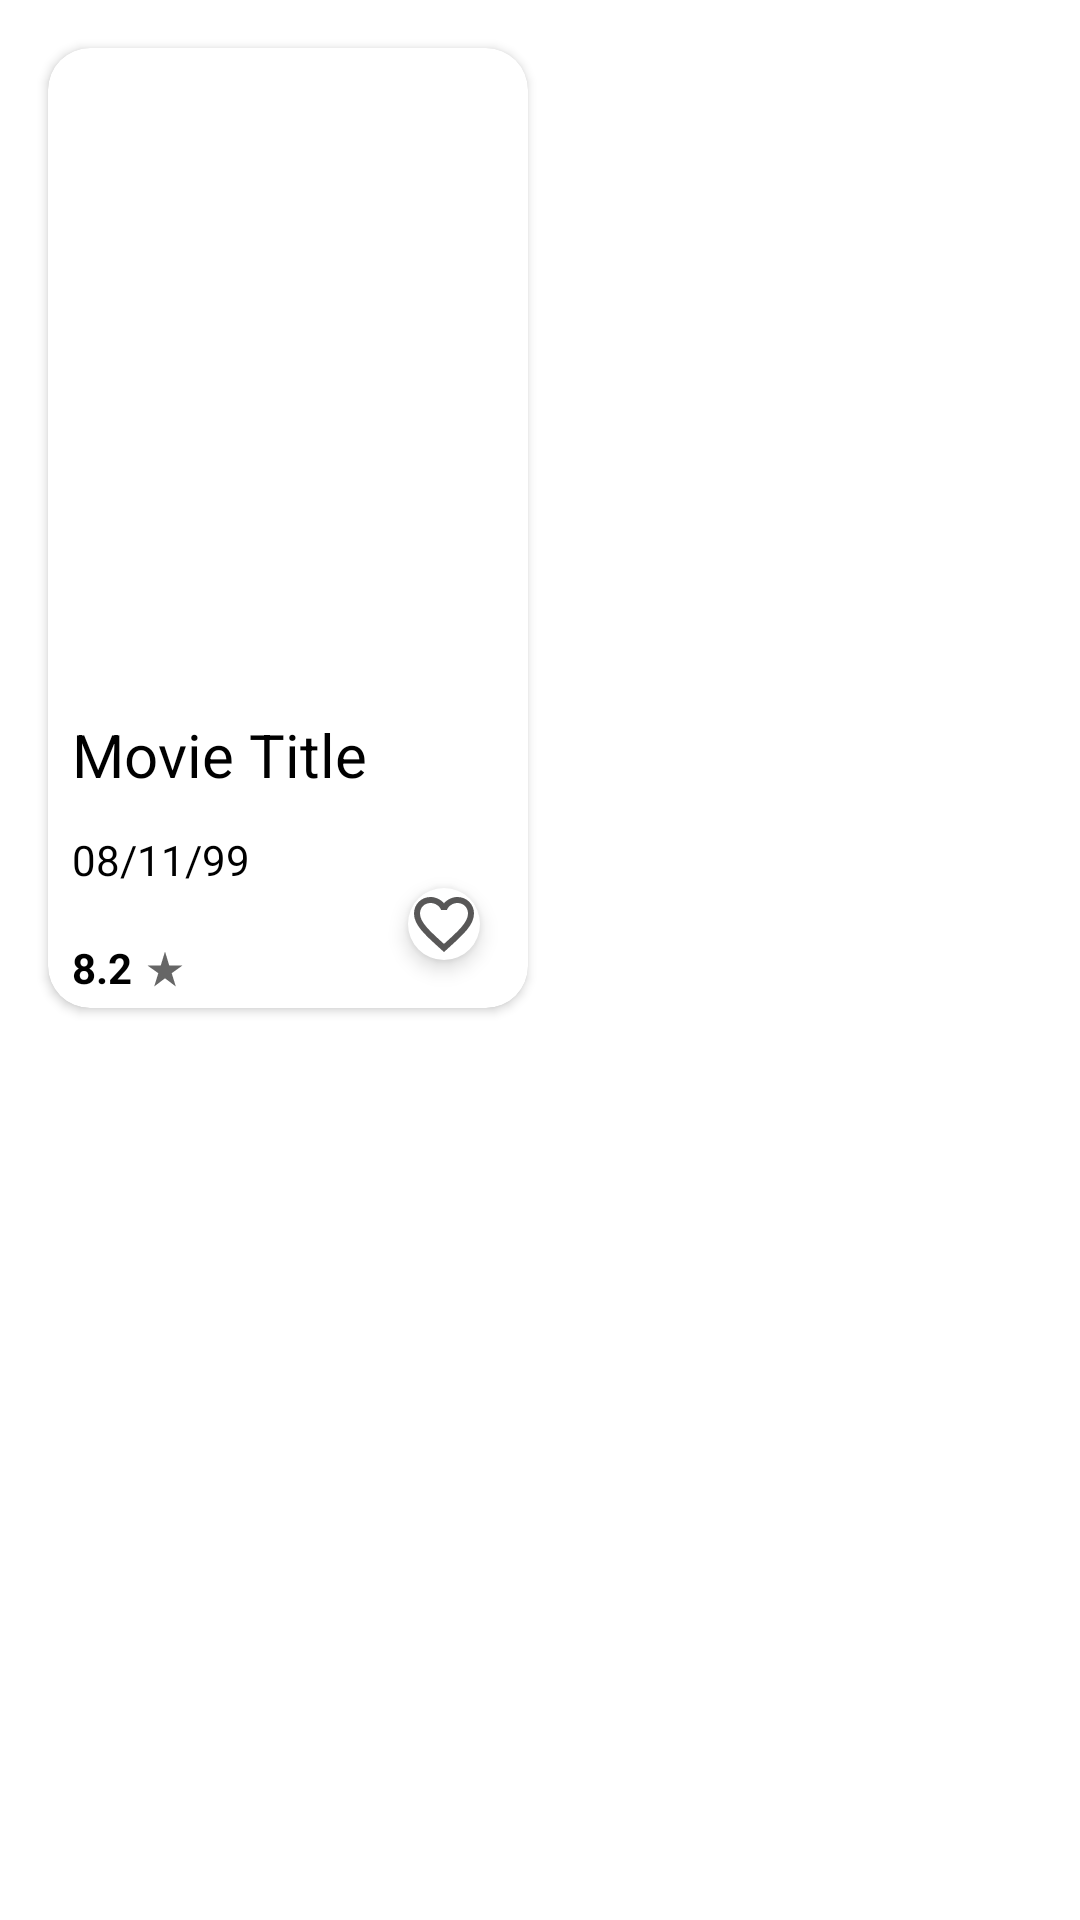

Icons on this 1080*1920 Android screen, each with the point to tap as (x,y):
favorite border: (442,928)
star rate: (165,969)
